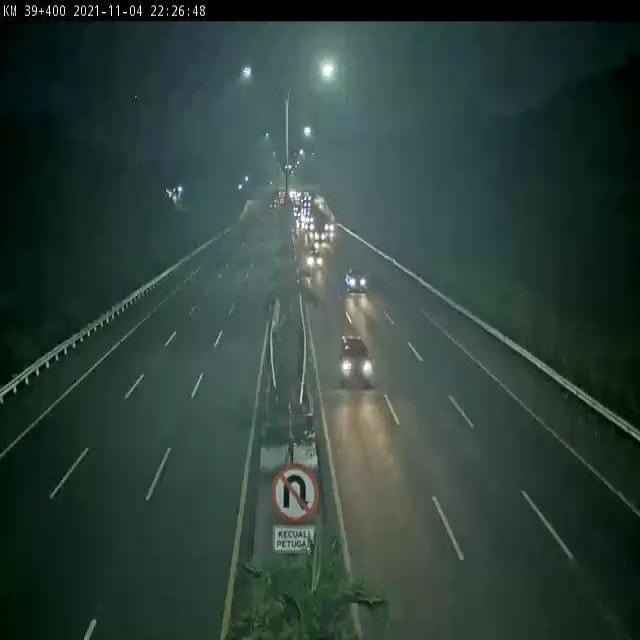car: (336, 336, 377, 395)
